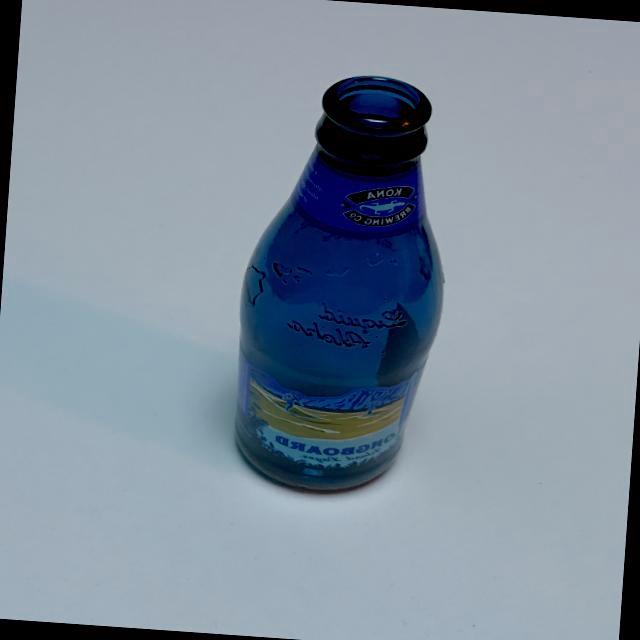glass: (210, 51, 469, 522)
